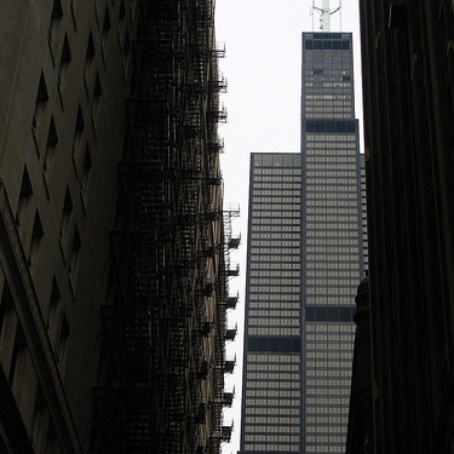building: (1, 1, 230, 450), (236, 26, 352, 447), (360, 1, 454, 440)
